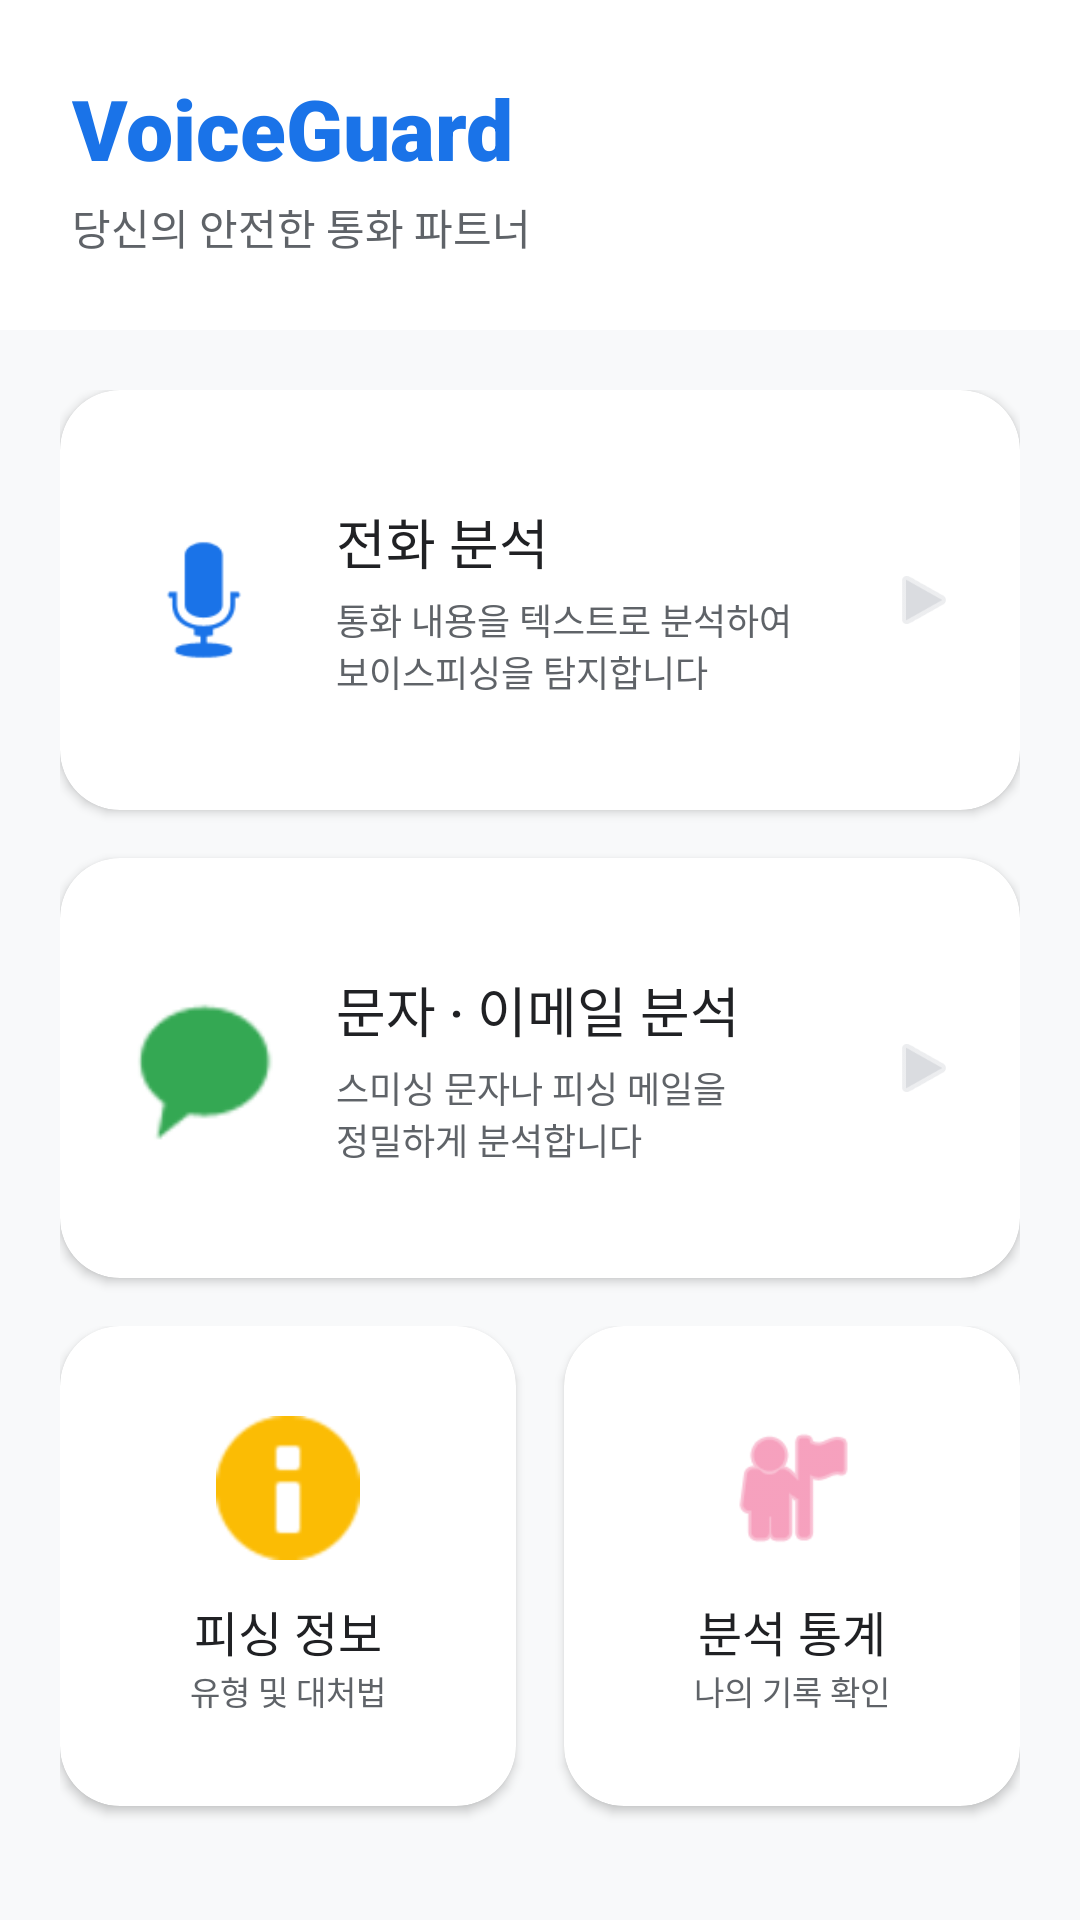

Icon click points for this 1080*1920 phone screenshot, format [x,y]:
이동: [924,600], [924,1068]
